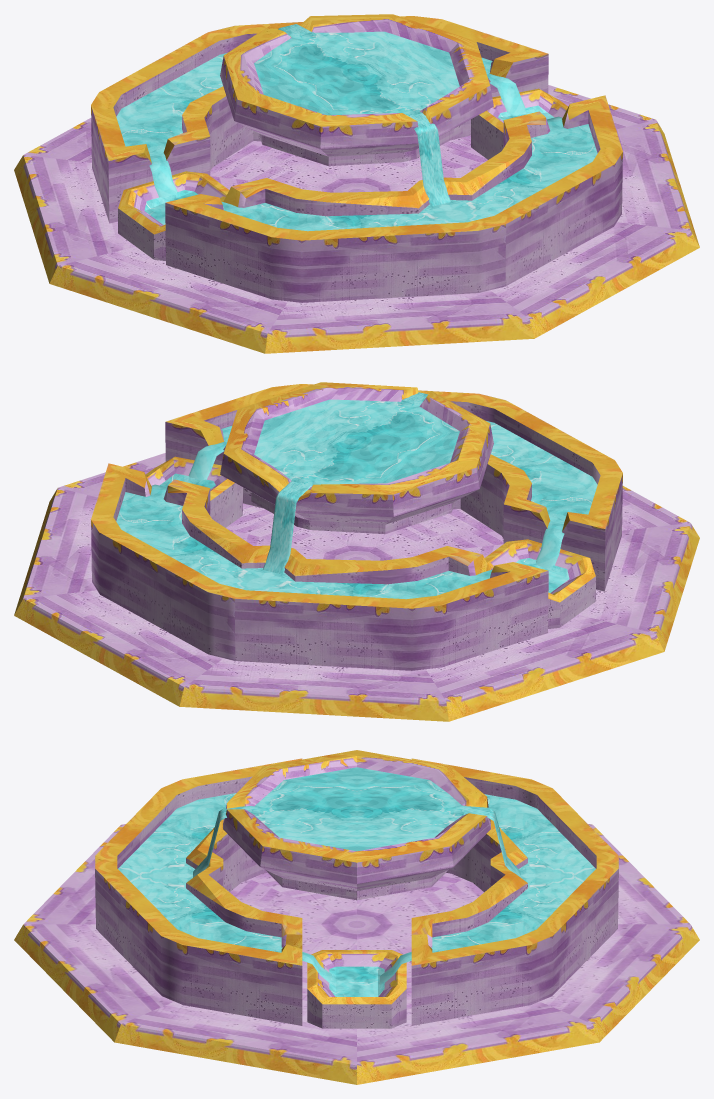
Rendered from Str_Fountain_01_Art.fbx.
The picture shows the model from 3 angles, top to bottom: view 1: azimuth 30°, elevation 25°; view 2: azimuth 150°, elevation 25°; view 3: azimuth 270°, elevation 25°; orthographic projection. The views are drawn at different scales.
Visible parts, largest first — view 1: Str_Fountain_01, Str_Fountain_01_Water; view 2: Str_Fountain_01, Str_Fountain_01_Water; view 3: Str_Fountain_01, Str_Fountain_01_Water.
Boxes of the visible parts, <box> form: Str_Fountain_01: <box>14,14,699,353</box>; Str_Fountain_01_Water: <box>116,24,597,231</box>; Str_Fountain_01: <box>14,382,699,721</box>; Str_Fountain_01_Water: <box>116,392,597,599</box>; Str_Fountain_01: <box>14,750,699,1084</box>; Str_Fountain_01_Water: <box>118,767,595,996</box>.
Size of what is drawn, in the model's own units: 673 by 148 by 673.
